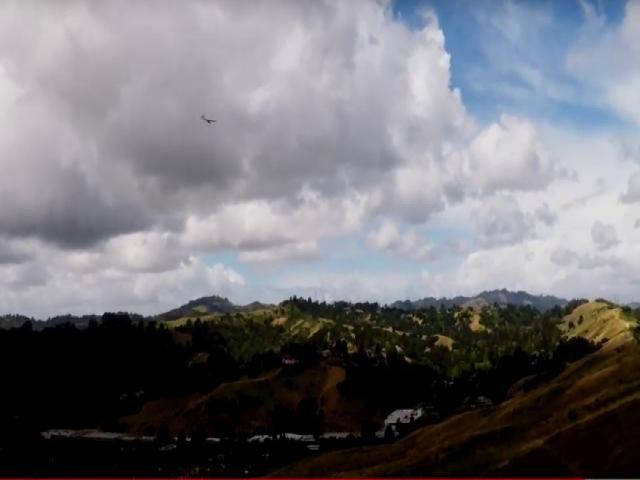iha: (200, 114, 216, 126)
